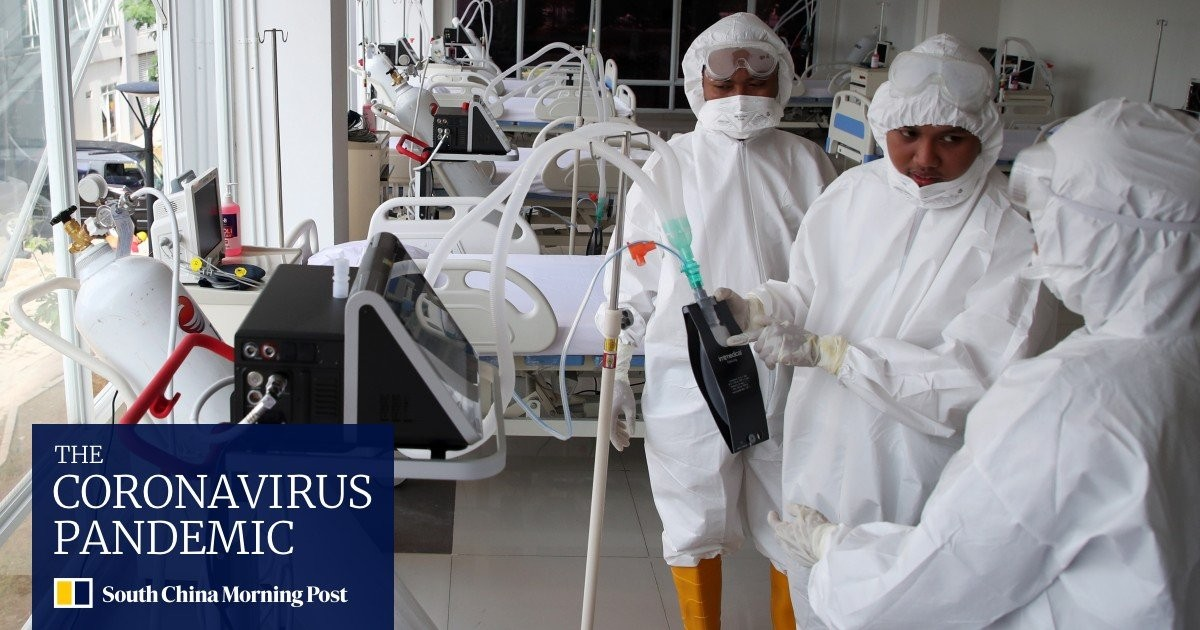Coverall: (816, 103, 1199, 630), (777, 151, 1060, 630), (603, 8, 843, 572)
Gloves: (588, 369, 639, 455), (751, 321, 823, 377), (716, 286, 773, 346)
Goggles: (998, 140, 1200, 237), (693, 42, 789, 79)
mask_weared_incorrectly: (885, 122, 985, 211)
with_mask: (694, 74, 788, 143)
